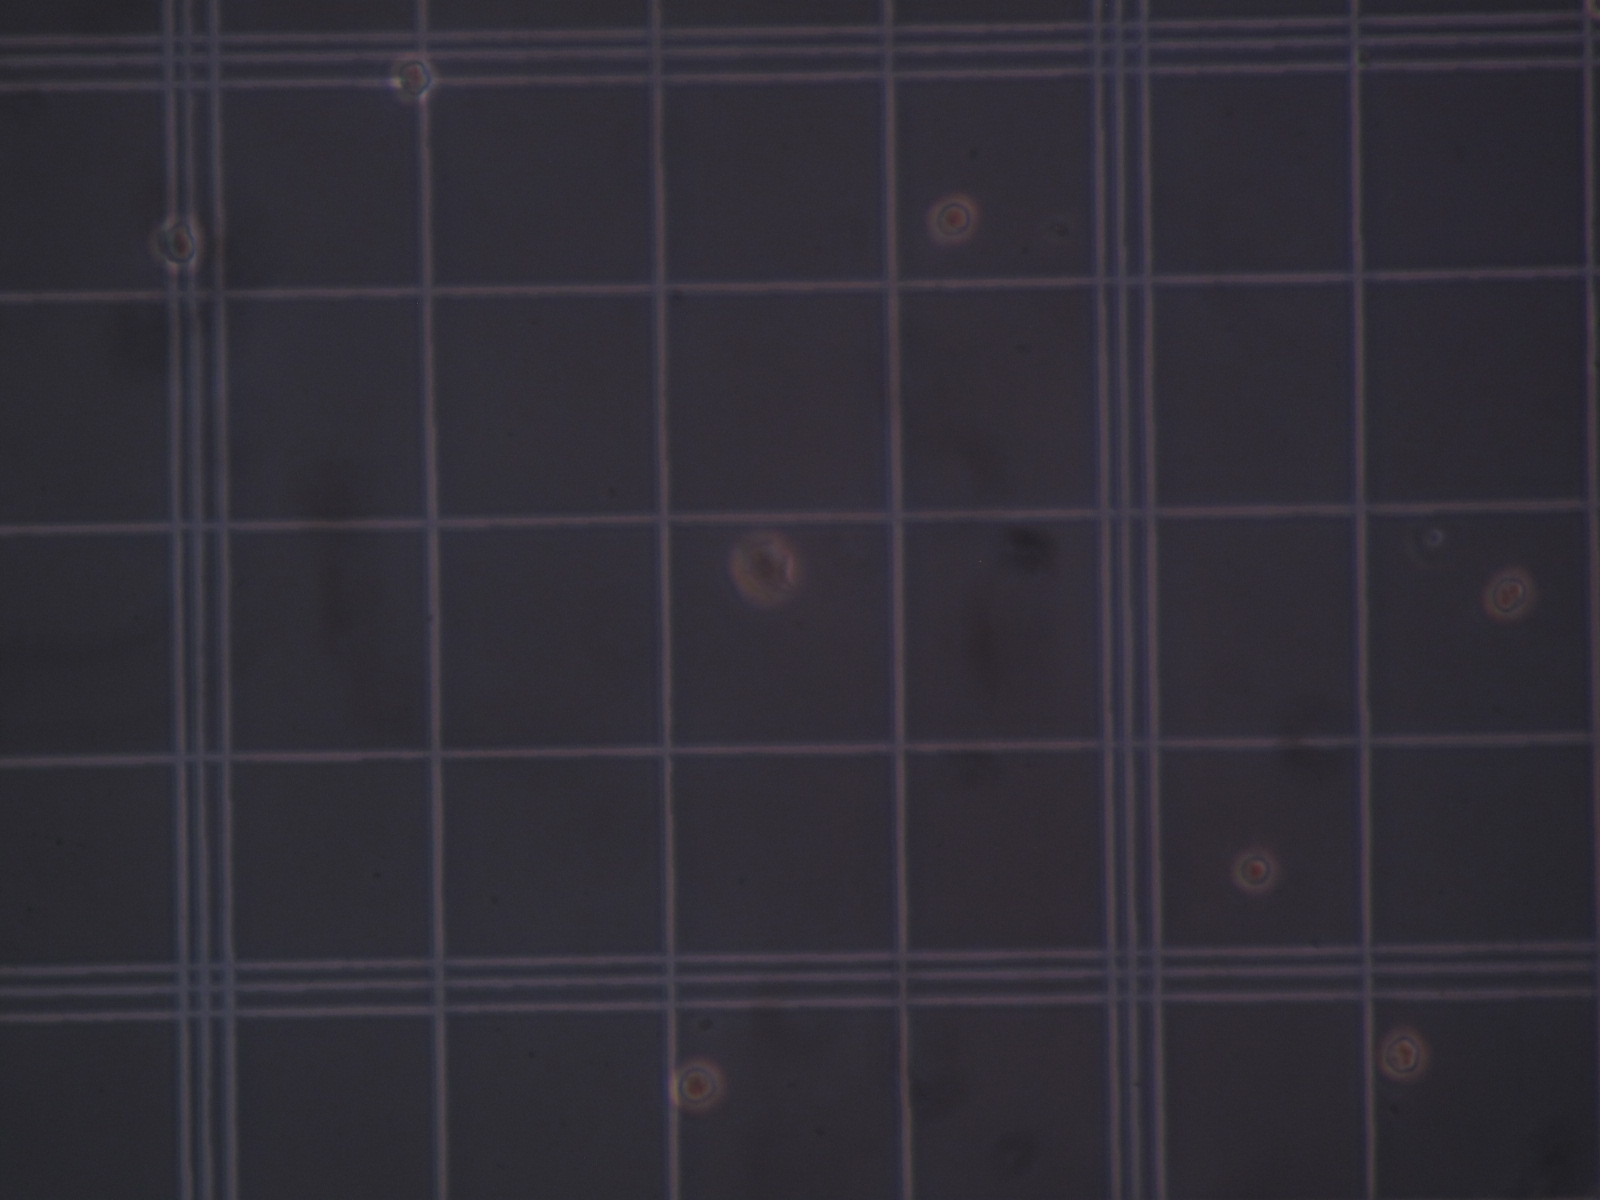hemo: (729, 533, 797, 606), (669, 1059, 724, 1112), (152, 216, 202, 268), (1484, 567, 1533, 620), (927, 194, 978, 245), (1380, 1029, 1427, 1080), (389, 54, 438, 103), (1232, 848, 1277, 892)
